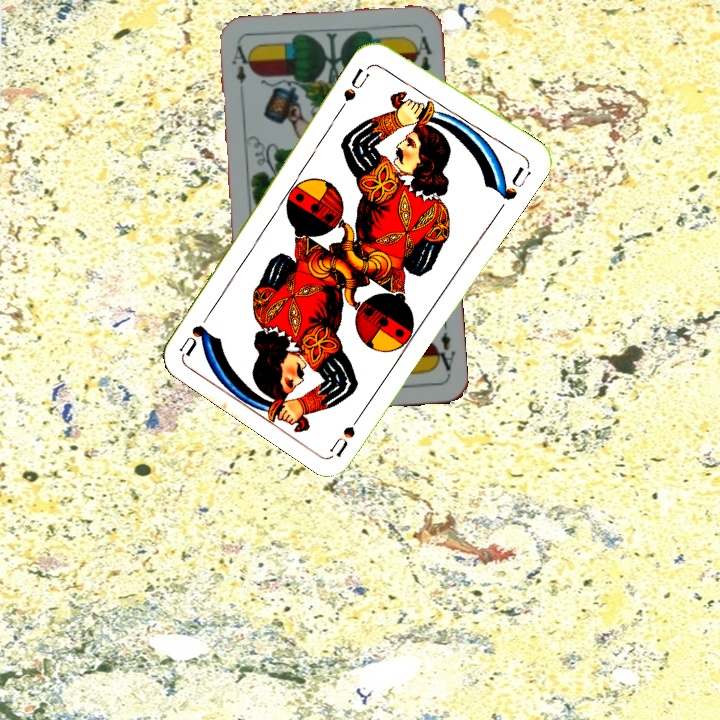EA: (430, 318, 458, 377), (228, 41, 252, 86)
SU: (327, 403, 369, 458), (339, 64, 372, 104)
